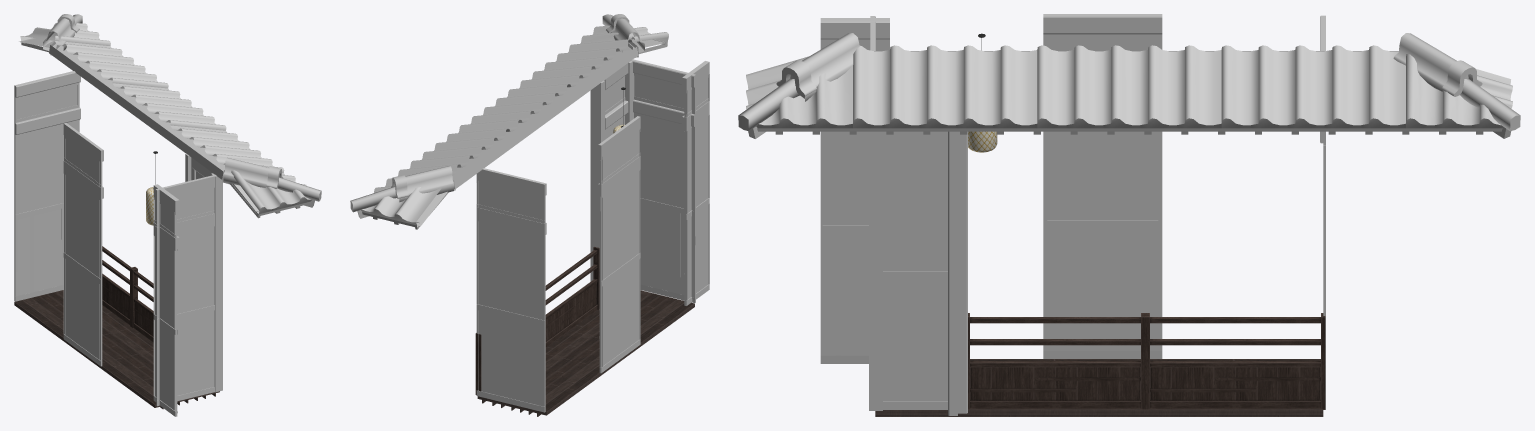
Rendered from 4-4_Building.fbx.
3 renders of one model, left to right at view 1: azimuth 30°, elevation 25°; view 2: azimuth 150°, elevation 25°; view 3: azimuth 270°, elevation 25°, orthographic. The views are drawn at different scales.
Visible parts, largest first — view 1: _Combined Mesh [4-4_Building]; view 2: _Combined Mesh [4-4_Building]; view 3: _Combined Mesh [4-4_Building].
Boxes of the visible parts, bbox=[...] form: _Combined Mesh [4-4_Building]: bbox=[14, 14, 321, 416]; _Combined Mesh [4-4_Building]: bbox=[350, 14, 709, 416]; _Combined Mesh [4-4_Building]: bbox=[738, 14, 1520, 416].
Bounding box in the file's own units: 2.05 × 3.71 × 6.79.
